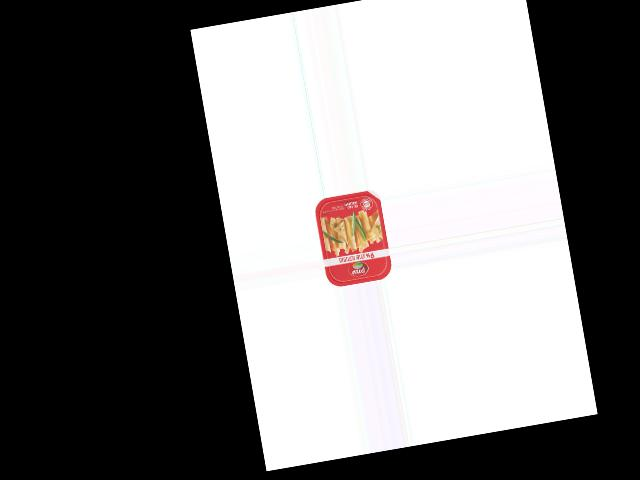cheese: (312, 188, 393, 289)
